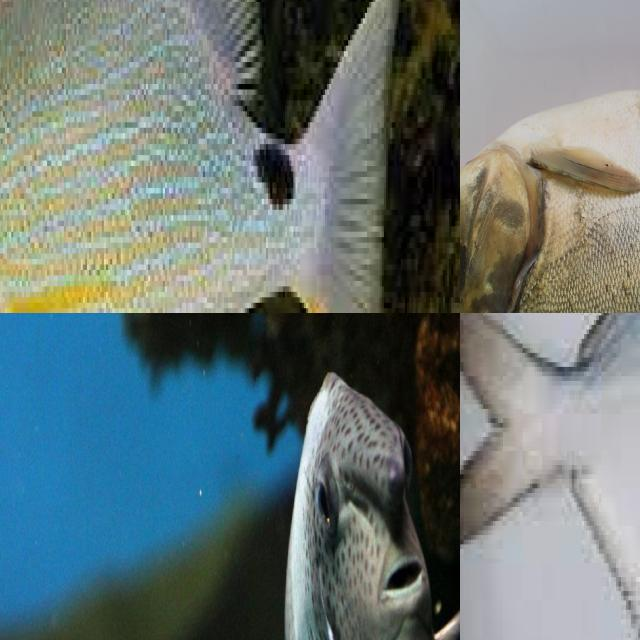fish: (0, 0, 460, 313), (242, 363, 460, 640), (460, 313, 640, 640), (460, 65, 640, 313)
